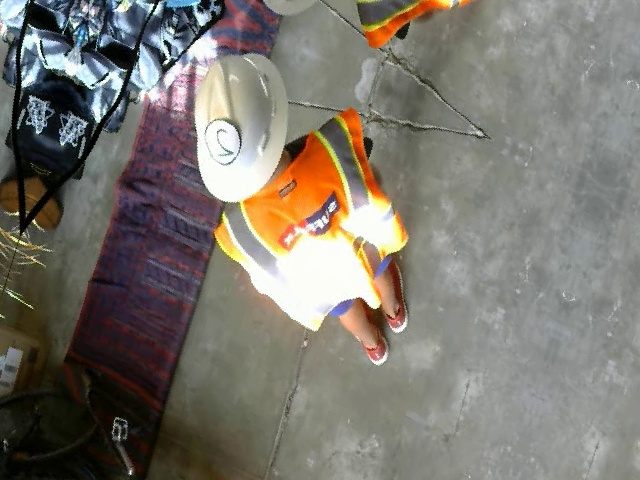two: (196, 113, 244, 173)
